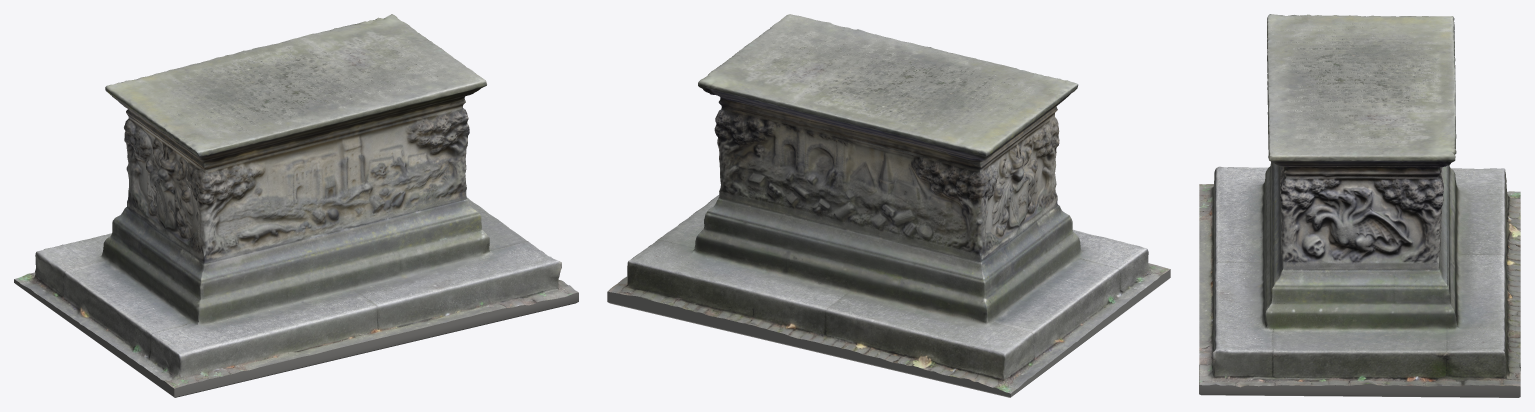
Rendered from tomb.glb.
3 renders of one model, left to right at view 1: azimuth 30°, elevation 25°; view 2: azimuth 150°, elevation 25°; view 3: azimuth 270°, elevation 25°, orthographic.
Parts seen in each view (by area): view 1: Object_2, Object_3; view 2: Object_2, Object_3; view 3: Object_2, Object_3.
Boxes of the visible parts, x1,y1,x2,y2 form: Object_2: [14, 14, 578, 388]; Object_3: [14, 279, 578, 397]; Object_2: [608, 14, 1169, 393]; Object_3: [607, 269, 1170, 397]; Object_2: [1199, 14, 1520, 387]; Object_3: [1199, 365, 1520, 397].
Size of the model in its own units: 11.46 by 5.81 by 7.86.
2 materials, 2 textured.
